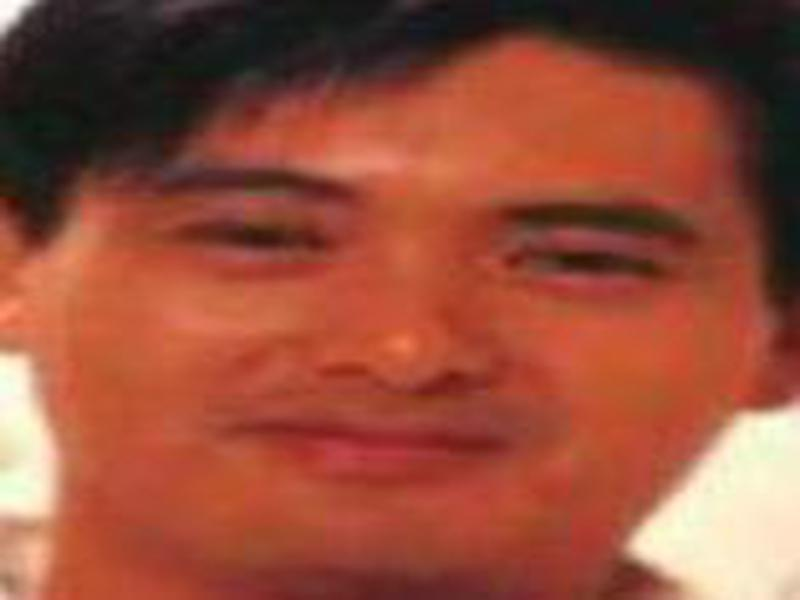without_mask: (40, 68, 751, 568)
